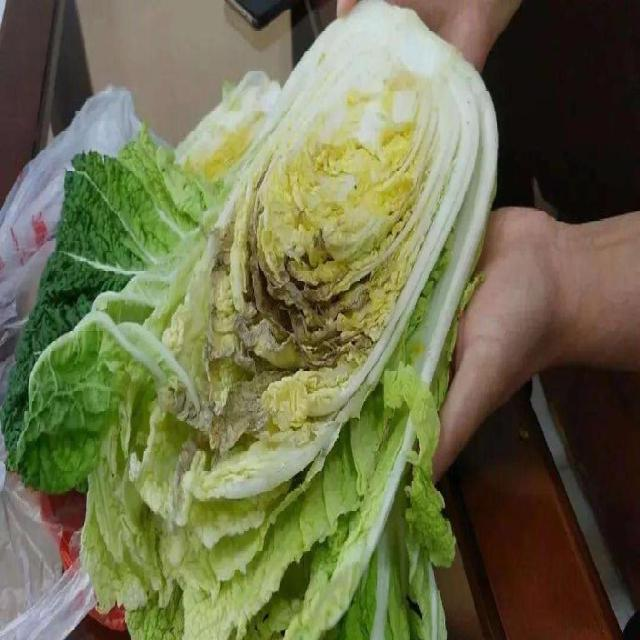-Kitchen waste - vegetable roots and leaves-: (338, 69, 493, 640), (9, 142, 222, 465), (269, 36, 425, 285)
